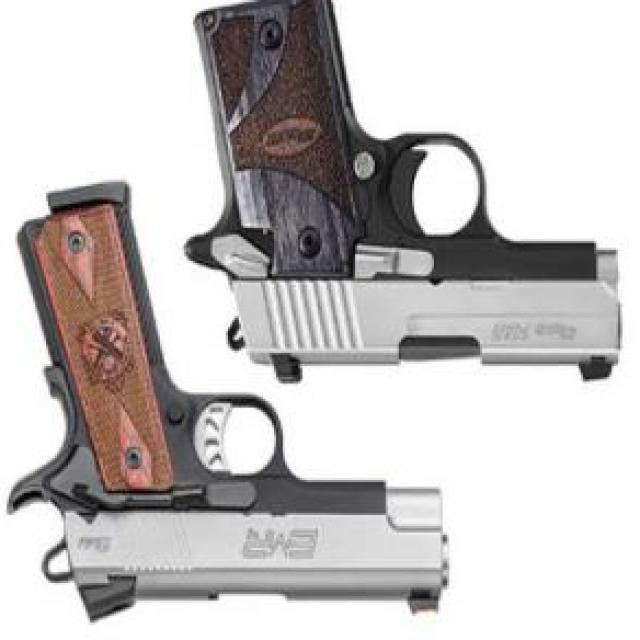pistol: (11, 184, 458, 620), (178, 0, 629, 379)
